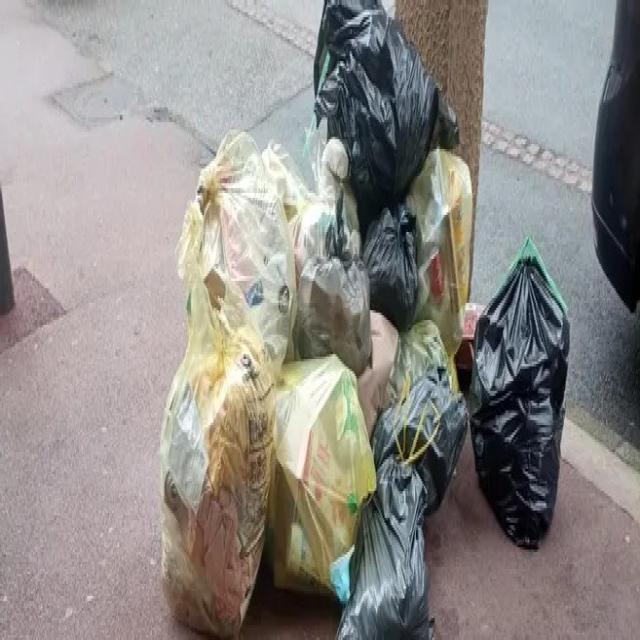Trashbag: (465, 239, 574, 555), (309, 1, 465, 210), (332, 458, 436, 640), (369, 361, 473, 486), (356, 203, 430, 319)
